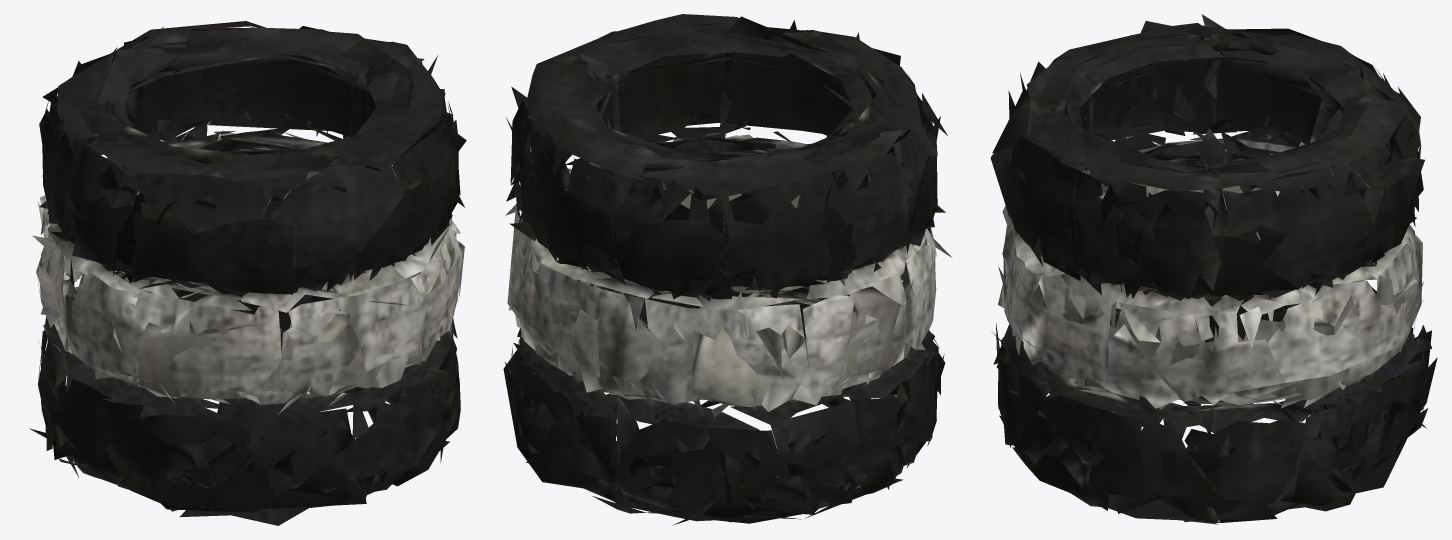
The model's file is kueste_reifenstapel.glb.
The picture shows the model from 3 angles, left to right: view 1: azimuth 30°, elevation 25°; view 2: azimuth 150°, elevation 25°; view 3: azimuth 270°, elevation 25°; orthographic projection.
Visible parts, largest first — view 1: Prop; view 2: Prop; view 3: Prop.
Part boxes in pixels (x1,y1,x2,y2): Prop: [29, 21, 466, 525]; Prop: [503, 14, 951, 525]; Prop: [990, 14, 1437, 524].
Bounding box in the file's own units: 1.17 × 1.04 × 1.15.
1 material, 1 textured.
